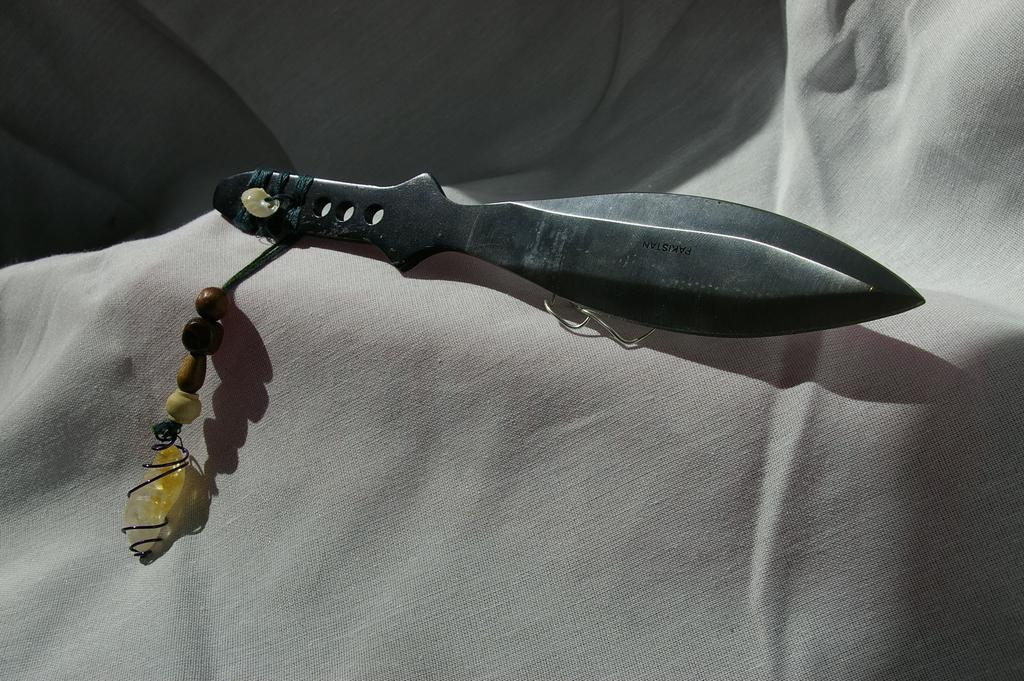knife: (203, 167, 925, 350)
